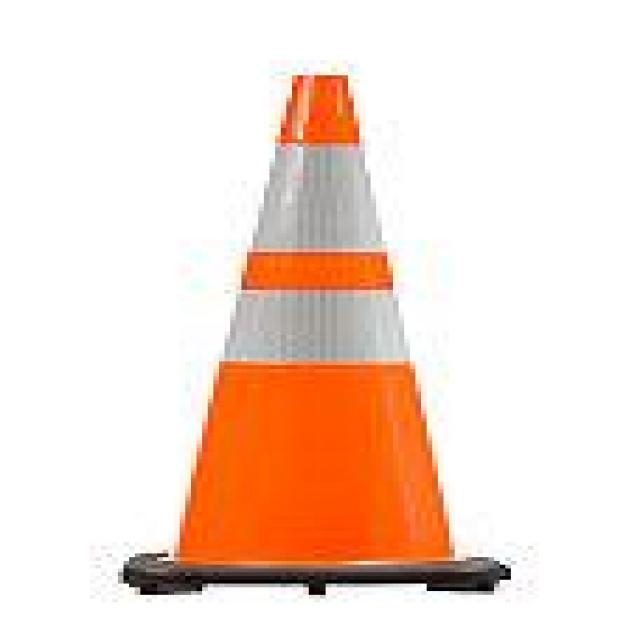Cone: (118, 71, 516, 595)
